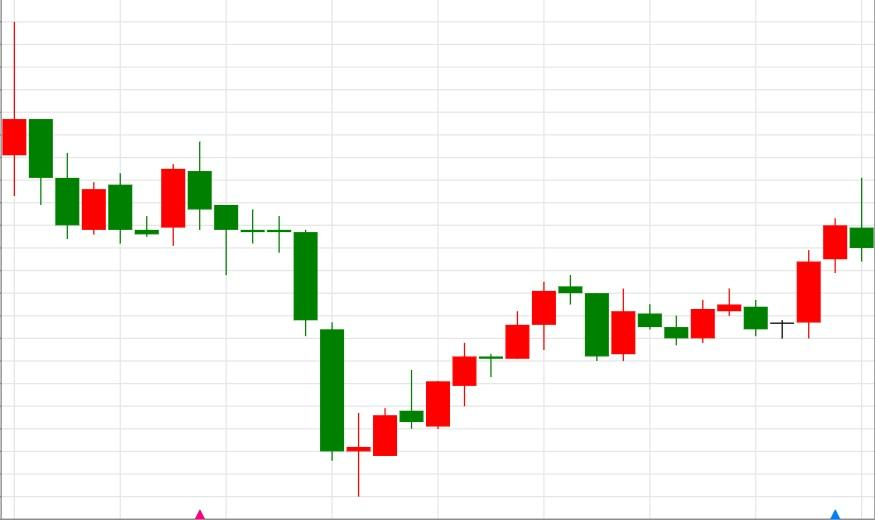evening_star_fall: (345, 274, 610, 497)
morning_star_rise: (187, 140, 398, 497)
